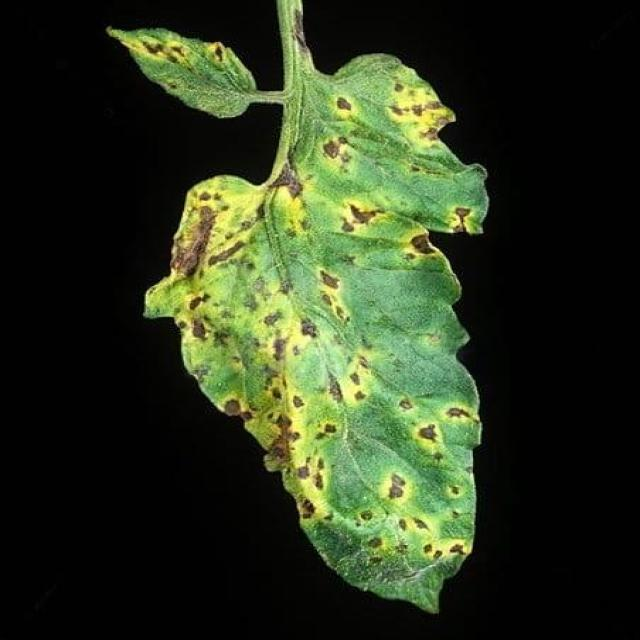Septoria: (138, 52, 489, 615), (106, 20, 261, 120)
